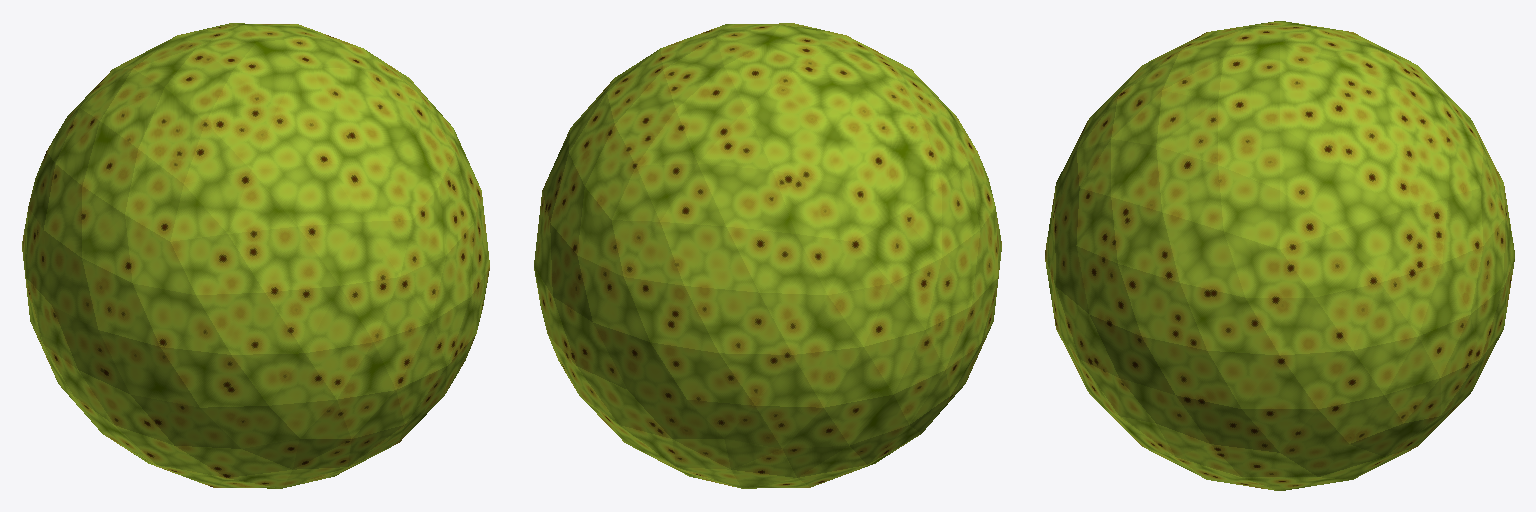
3 renders of one model, left to right at view 1: azimuth 30°, elevation 25°; view 2: azimuth 150°, elevation 25°; view 3: azimuth 270°, elevation 25°, orthographic.
Visible parts, largest first — view 1: Icosphere_Icosphere.001; view 2: Icosphere_Icosphere.001; view 3: Icosphere_Icosphere.001.
Boxes of the visible parts, x1,y1,x2,y2 form: Icosphere_Icosphere.001: [22, 23, 489, 488]; Icosphere_Icosphere.001: [534, 23, 1001, 488]; Icosphere_Icosphere.001: [1045, 21, 1514, 490].
Size of the model in its own units: 1.11 by 1.11 by 1.11.
Materials: 1 (1 with a texture image).